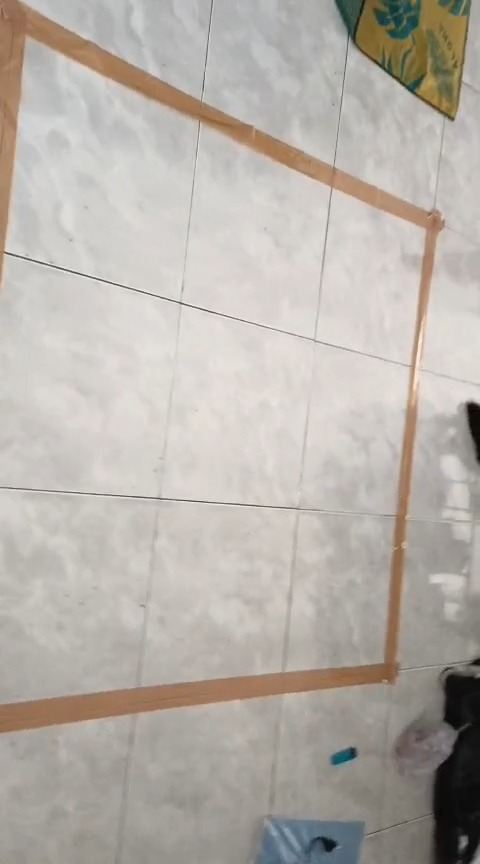floor marking: (0, 0, 443, 732)
